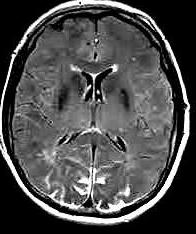Normal_Brain: (1, 1, 196, 234)
